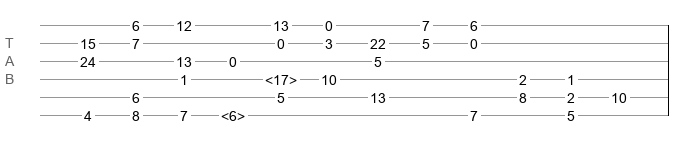0: (229, 54, 237, 64), (277, 36, 285, 46), (325, 18, 333, 28), (470, 36, 478, 46)
1: (180, 72, 188, 82), (567, 72, 575, 82)
10: (321, 72, 337, 82), (611, 90, 627, 100)
12: (176, 18, 192, 28)
13: (176, 54, 192, 64), (273, 18, 289, 28), (370, 90, 386, 100)
15: (80, 36, 96, 46)
2: (519, 72, 527, 82), (567, 90, 575, 100)
22: (370, 36, 386, 46)
24: (80, 54, 96, 64)
3: (325, 36, 333, 46)
4: (84, 108, 92, 118)
5: (277, 90, 285, 100), (374, 54, 382, 64), (422, 36, 430, 46), (567, 108, 575, 118)
6: (132, 18, 140, 28), (132, 90, 140, 100), (470, 18, 478, 28)
7: (132, 36, 140, 46), (180, 108, 188, 118), (422, 18, 430, 28), (470, 108, 478, 118)
8: (132, 108, 140, 118), (519, 90, 527, 100)
harmonic: (265, 72, 297, 82), (221, 108, 245, 118)
